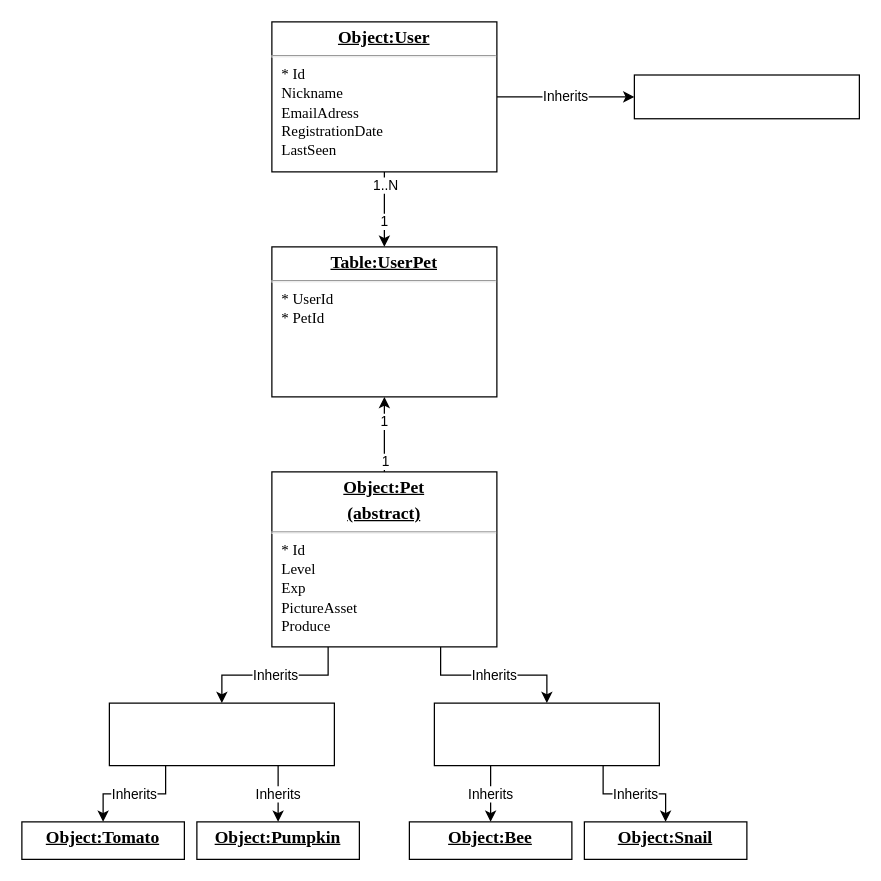
Image size: 881x881. Some labels were removed from this diagram. The centre of each missing label's shape, as x and y in pixels:
"Object:Admin" belongs at point 746,96.
"Object:Insect (abstract)" belongs at point 546,734.
"Object:Plant (abstract)" belongs at point 221,734.
